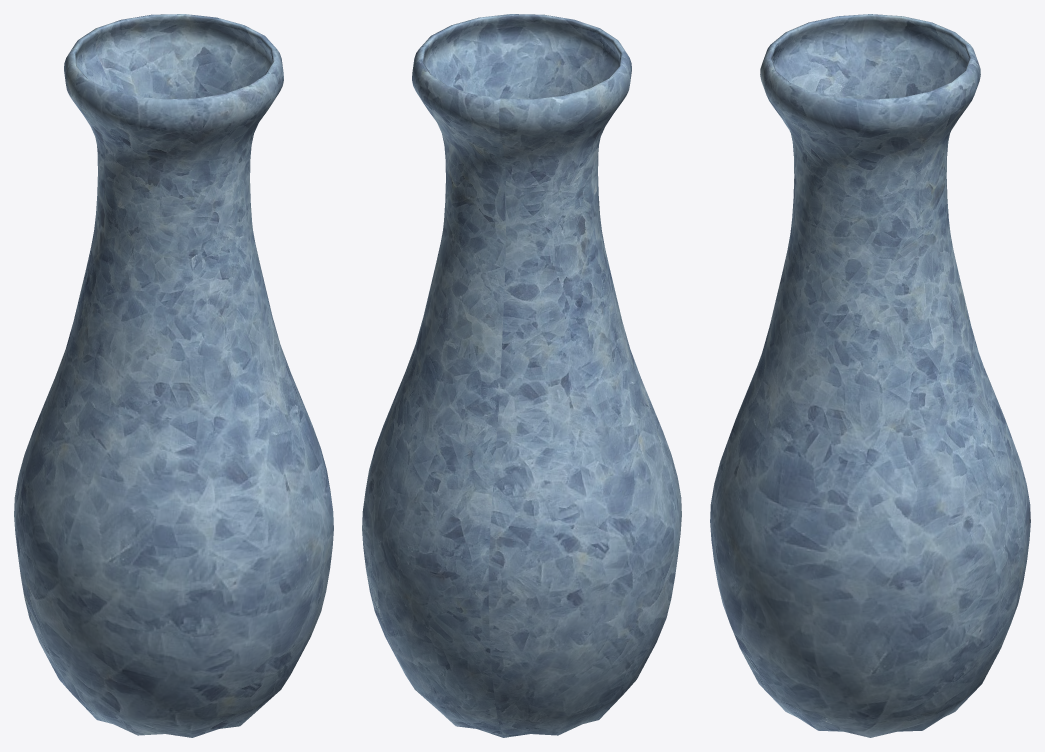
The model's file is wholevase.fbx.
3 views of the same model, side by side, from view 1: azimuth 30°, elevation 25°; view 2: azimuth 150°, elevation 25°; view 3: azimuth 270°, elevation 25° (orthographic).
Visible parts, largest first — view 1: pasted__polySurface5488; view 2: pasted__polySurface5488; view 3: pasted__polySurface5488.
Boxes of the visible parts, box(x1,y1,x2,y2) form: pasted__polySurface5488: box(14, 14, 333, 737); pasted__polySurface5488: box(362, 14, 681, 737); pasted__polySurface5488: box(710, 14, 1030, 737).
Bounding box in the file's own units: 3.14 × 7.01 × 3.13.
1 material, 1 textured.
